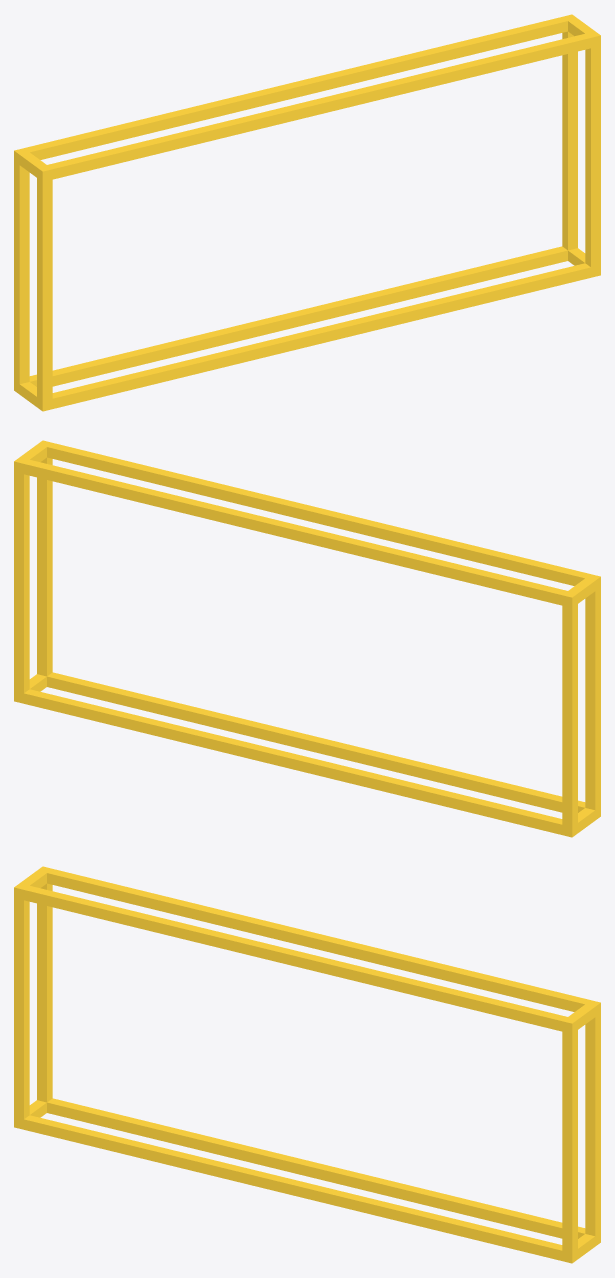
The model's file is 空气墙（）.gltf.
The picture shows the model from 3 angles, top to bottom: view 1: azimuth 30°, elevation 25°; view 2: azimuth 150°, elevation 25°; view 3: azimuth 330°, elevation 25°; orthographic projection.
Parts seen in each view (by area): view 1: Object; view 2: Object; view 3: Object.
Boxes of the visible parts, x1,y1,x2,y2 form: Object: (14,14,600,411); Object: (14,440,600,837); Object: (14,866,600,1263).
Size of the model in its own units: 56 by 23 by 5.
1 material, 1 textured.
